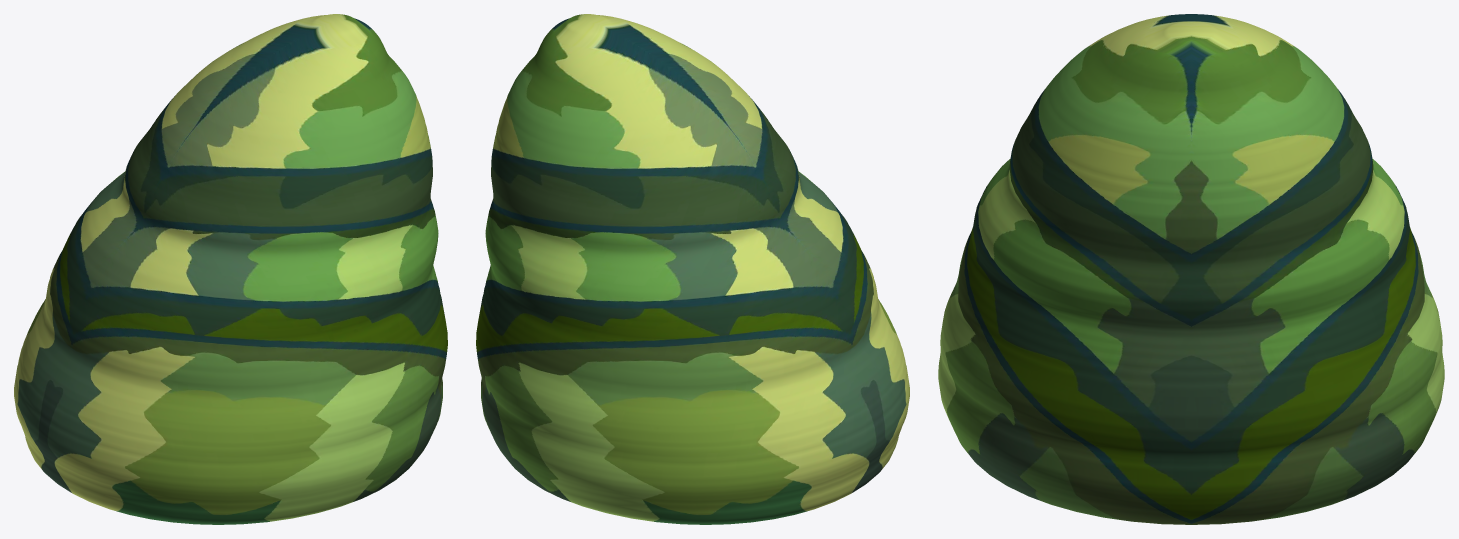
File: striped_boulder.glb
The picture shows the model from 3 angles, left to right: view 1: azimuth 30°, elevation 25°; view 2: azimuth 150°, elevation 25°; view 3: azimuth 270°, elevation 25°; orthographic projection. The views are drawn at different scales.
Parts seen in each view (by area): view 1: striped_boulder; view 2: striped_boulder; view 3: striped_boulder.
Boxes of the visible parts, bbox=[...] form: striped_boulder: bbox=[14, 14, 447, 524]; striped_boulder: bbox=[476, 14, 909, 524]; striped_boulder: bbox=[938, 14, 1444, 524].
Bounding box in the file's own units: 1 × 1.06 × 0.9856.
1 material, 1 textured.
